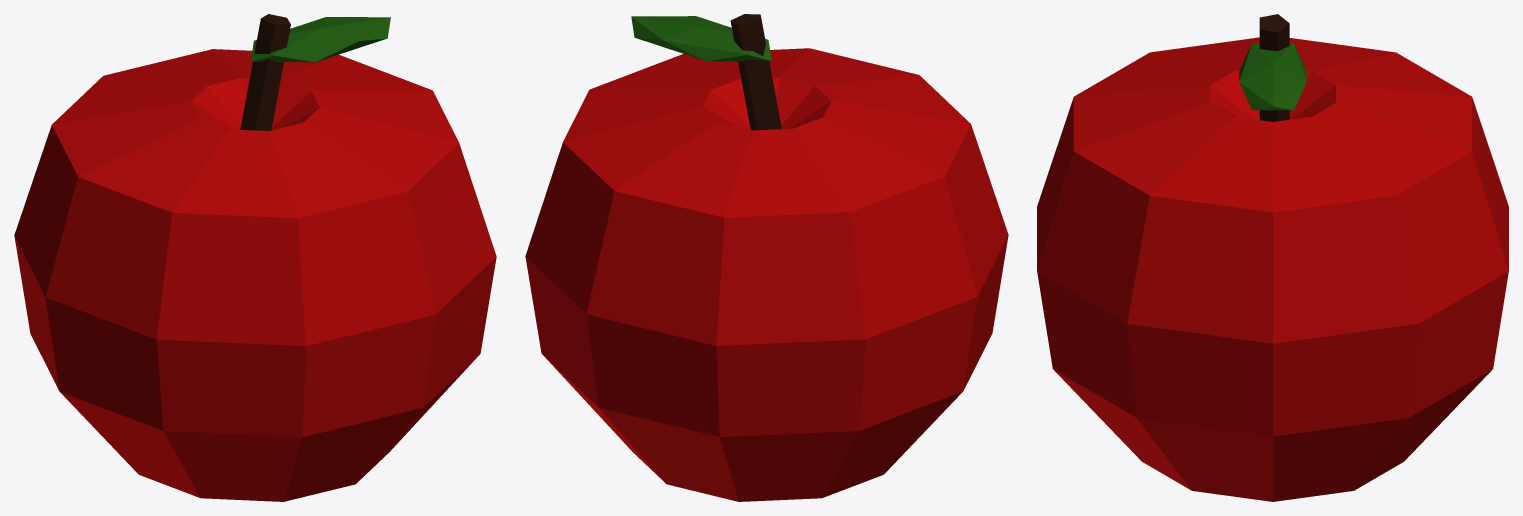
File: apple.obj
3 renders of one model, left to right at view 1: azimuth 30°, elevation 25°; view 2: azimuth 150°, elevation 25°; view 3: azimuth 270°, elevation 25°, orthographic. The views are drawn at different scales.
Visible parts, largest first — view 1: apple; view 2: apple; view 3: apple.
Boxes of the visible parts, bbox=[...] form: apple: bbox=[14, 14, 496, 501]; apple: bbox=[525, 14, 1008, 501]; apple: bbox=[1037, 14, 1508, 501].
Size of the model in its own units: 0.09 by 0.0908 by 0.0856.
